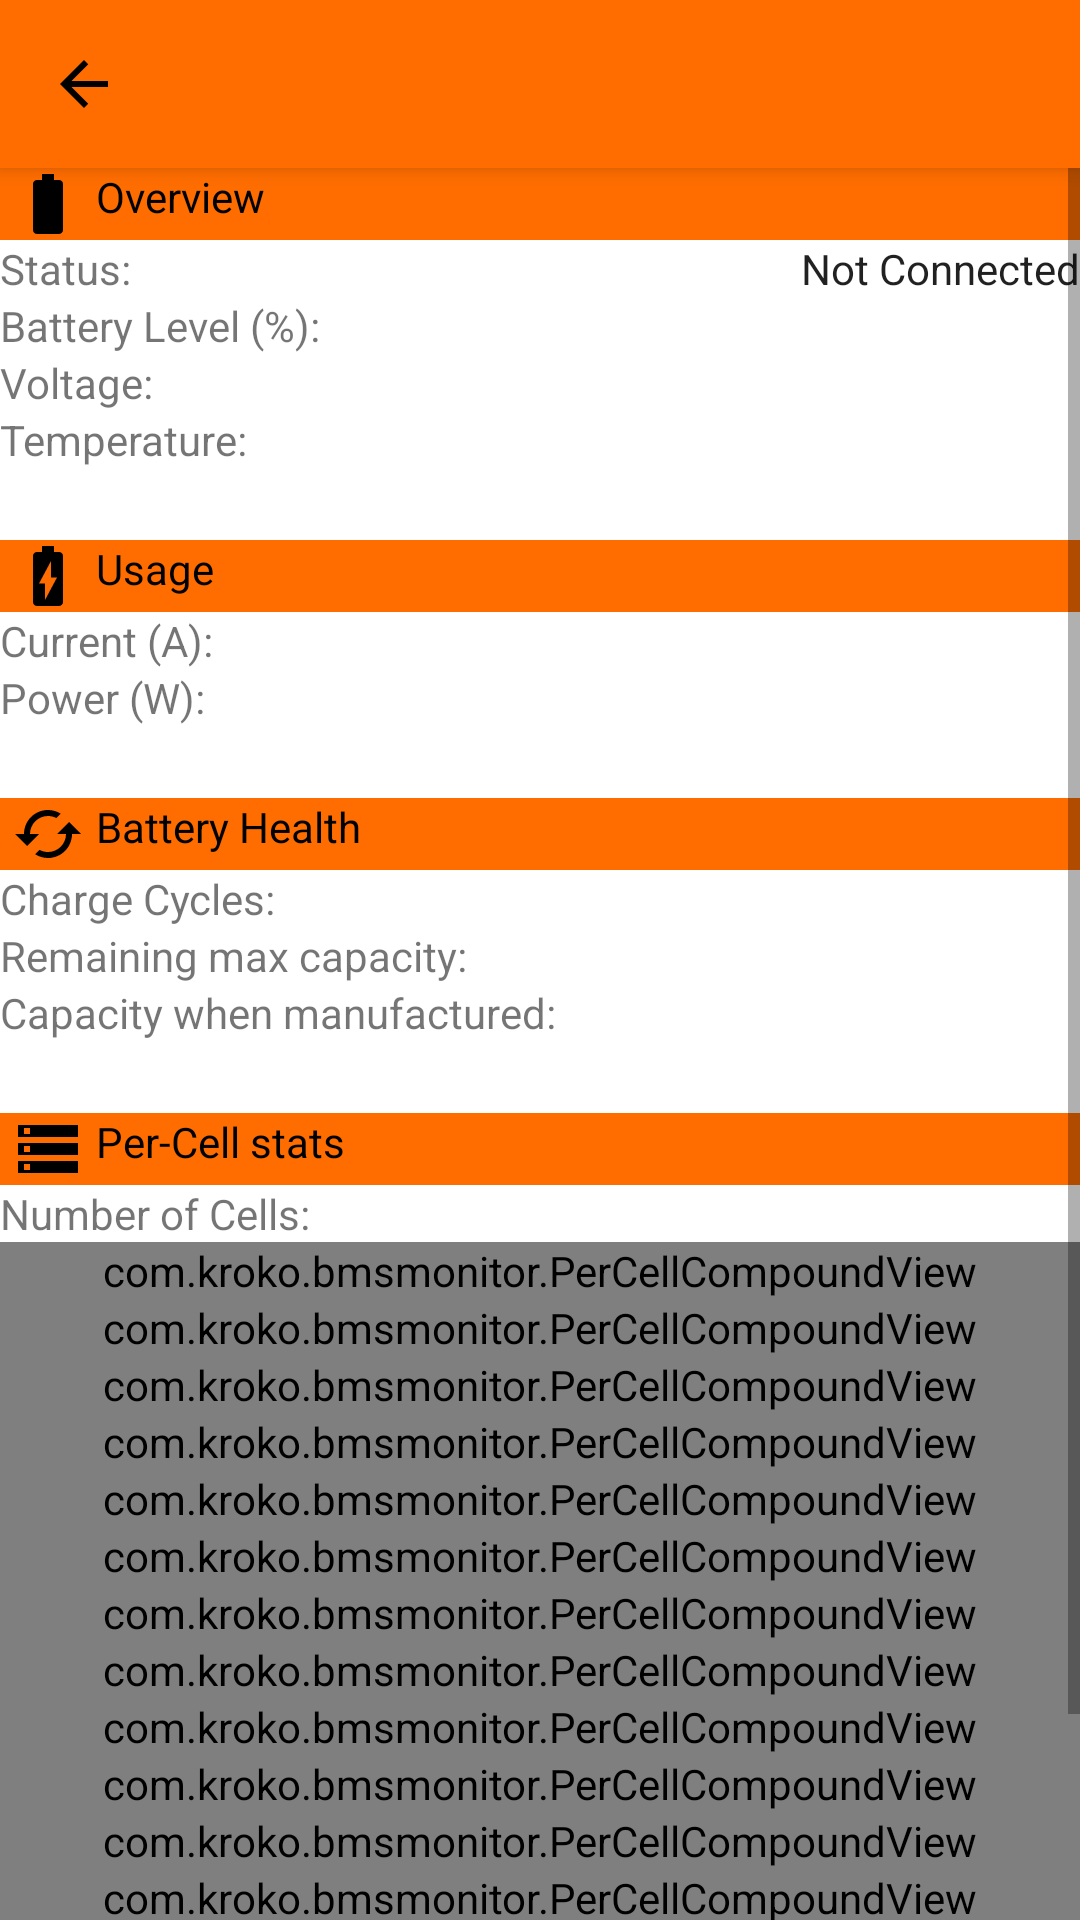

Locate icon controls on the screen. Image size 1080 × 1920, boxes as (x1, y1, x2, y2).
charge discharge: (33, 546, 63, 606)
charging cycles: (15, 810, 81, 858)
